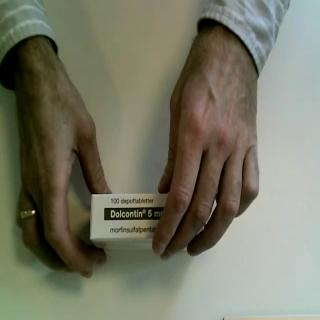dolcontin5mg: (89, 192, 206, 255)
